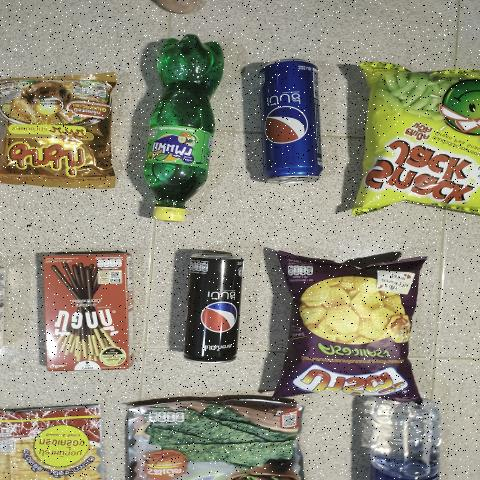fanta_green: (142, 31, 226, 230)
mama: (0, 81, 110, 186)
party_purple: (280, 266, 406, 390)
pepsi_black: (178, 254, 247, 370)
pepsi_blue: (254, 55, 333, 195)
pokki: (40, 252, 135, 372)
snack_jack: (354, 77, 480, 210)
